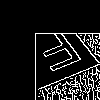F: (26, 26, 93, 81)
